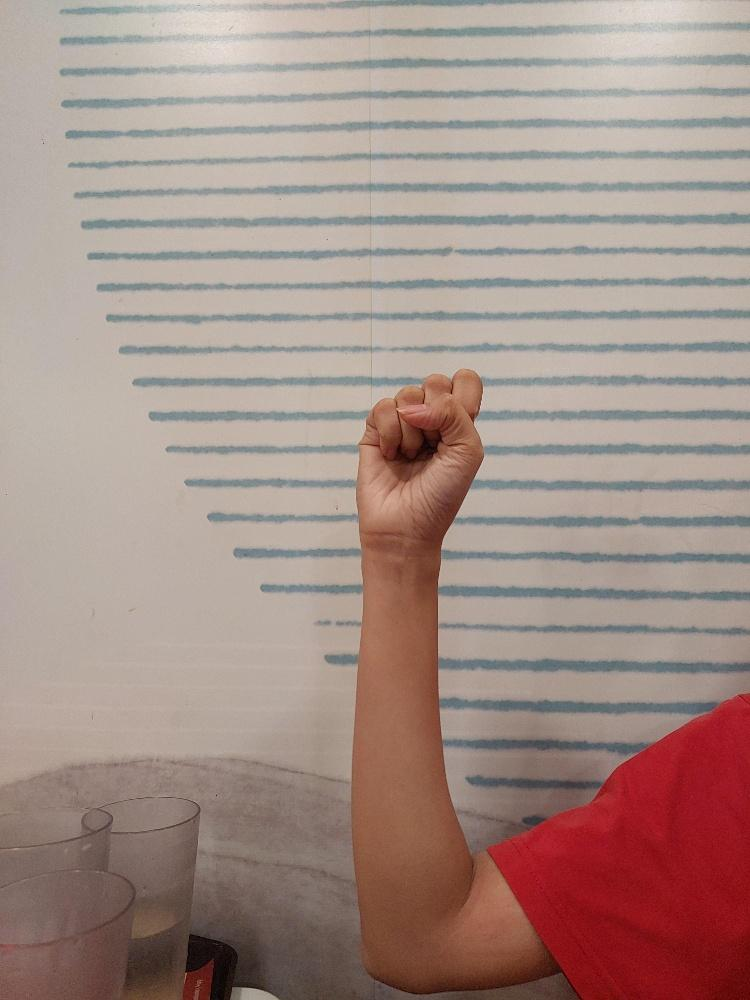s: (353, 365, 489, 549)
